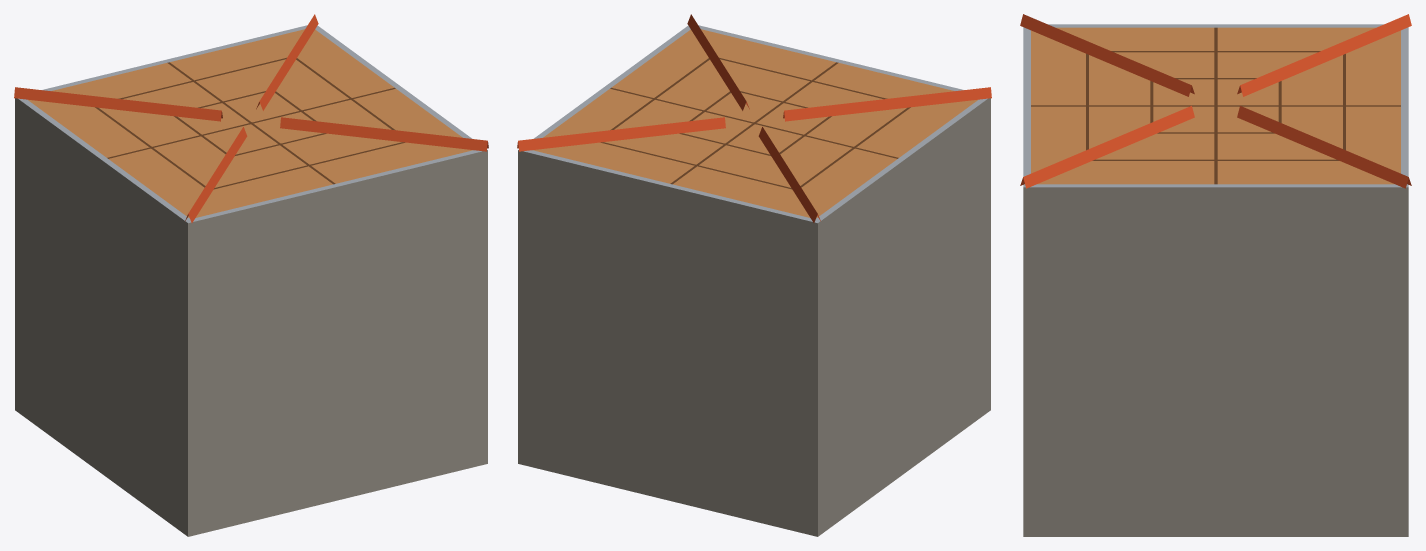
File: kit-hip-mid.glb
3 views of the same model, side by side, from view 1: azimuth 30°, elevation 25°; view 2: azimuth 150°, elevation 25°; view 3: azimuth 270°, elevation 25° (orthographic). The views are drawn at different scales.
Parts seen in each view (by area): view 1: hip.001; view 2: hip.001; view 3: hip.001.
Part boxes in pixels (x1,y1,x2,y2): hip.001: [14, 14, 488, 536]; hip.001: [517, 14, 991, 536]; hip.001: [1020, 14, 1411, 536].
Bounding box in the file's own units: 1.02 × 1.03 × 1.02.
